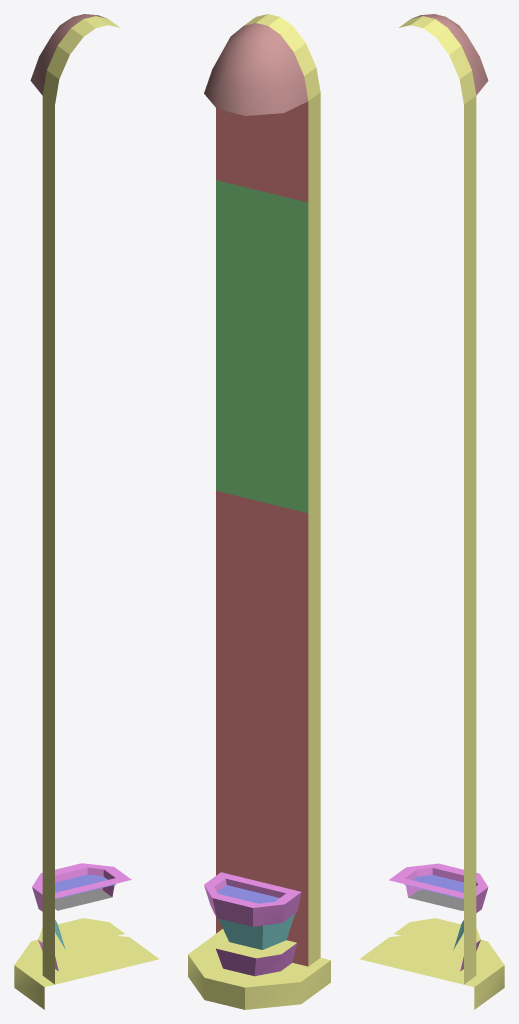
File: hed_shrine01.gltf
3 renders of one model, left to right at view 1: azimuth 30°, elevation 25°; view 2: azimuth 150°, elevation 25°; view 3: azimuth 330°, elevation 25°, orthographic.
Visible parts, largest first — view 1: hed_shrine01; view 2: hed_shrine01; view 3: hed_shrine01.
Part boxes in pixels (x1,y1,x2,y2): hed_shrine01: (14,14,159,1009); hed_shrine01: (188,14,330,1009); hed_shrine01: (359,14,504,1009).
Bounding box in the file's own units: 0.32 × 2.58 × 0.2429.
